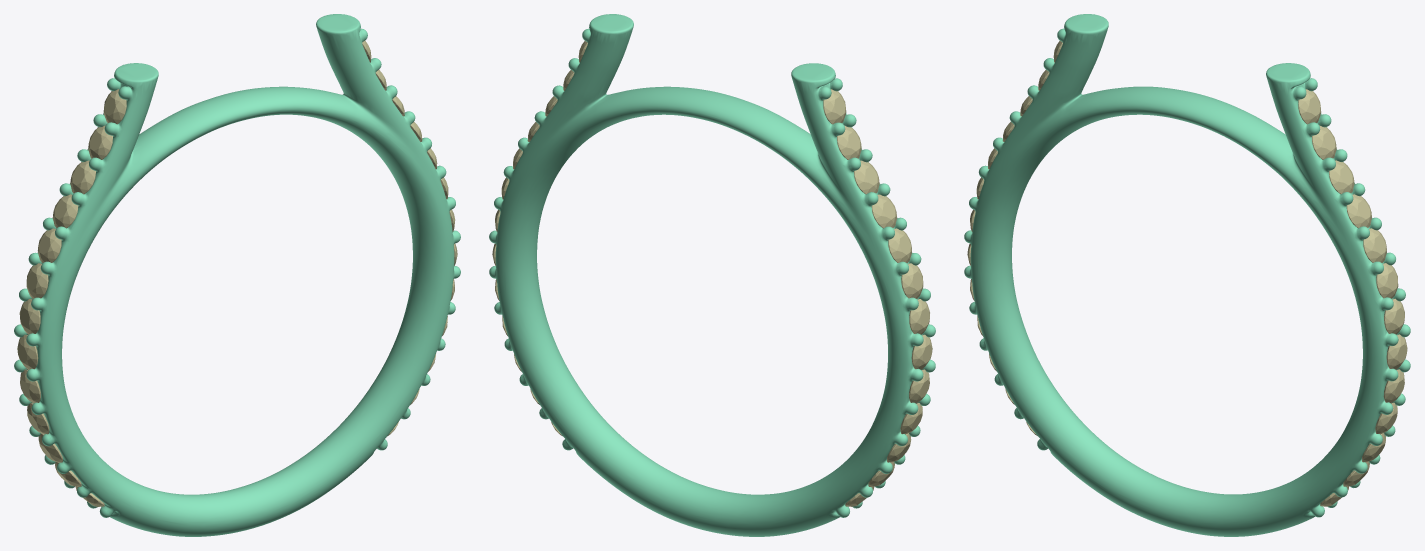
The picture shows the model from 3 angles, left to right: view 1: azimuth 30°, elevation 25°; view 2: azimuth 150°, elevation 25°; view 3: azimuth 330°, elevation 25°; orthographic projection.
Parts seen in each view (by area): view 1: Metal02, Diamond_Gem.009, Diamond_Gem.008, Diamond_Gem.010, Diamond_Gem.001, Diamond_Gem, Diamond_Gem.011, Diamond_Gem.002; view 2: Metal02, Diamond_Gem.009, Diamond_Gem.008, Diamond_Gem.010, Diamond_Gem.001, Diamond_Gem, Diamond_Gem.011, Diamond_Gem.002; view 3: Metal02, Diamond_Gem.016, Diamond_Gem.017, Diamond_Gem.015, Diamond_Gem.024, Diamond_Gem.025, Diamond_Gem.014, Diamond_Gem.023.
Boxes of the visible parts, x1,y1,x2,y2 form: Metal02: [14, 14, 460, 536]; Diamond_Gem.009: [52, 194, 78, 228]; Diamond_Gem.008: [70, 160, 95, 194]; Diamond_Gem.010: [37, 228, 61, 263]; Diamond_Gem.001: [88, 125, 112, 159]; Diamond_Gem: [103, 89, 126, 124]; Diamond_Gem.011: [26, 263, 48, 298]; Diamond_Gem.002: [19, 299, 40, 334]; Metal02: [489, 14, 935, 536]; Diamond_Gem.009: [871, 194, 897, 228]; Diamond_Gem.008: [854, 160, 879, 194]; Diamond_Gem.010: [888, 228, 911, 263]; Diamond_Gem.001: [837, 125, 861, 159]; Diamond_Gem: [823, 89, 846, 124]; Diamond_Gem.011: [901, 263, 923, 298]; Diamond_Gem.002: [909, 299, 929, 334]; Metal02: [964, 14, 1410, 536]; Diamond_Gem.016: [1346, 194, 1371, 228]; Diamond_Gem.017: [1329, 160, 1354, 194]; Diamond_Gem.015: [1363, 228, 1386, 262]; Diamond_Gem.024: [1312, 125, 1336, 159]; Diamond_Gem.025: [1298, 89, 1321, 124]; Diamond_Gem.014: [1376, 263, 1398, 298]; Diamond_Gem.023: [1384, 298, 1404, 334].
Size of the model in its own units: 20.96 by 22.31 by 1.99.
